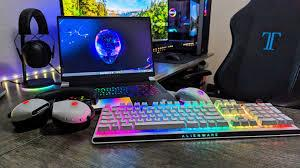keyboard: (91, 96, 299, 144), (54, 84, 160, 95)
